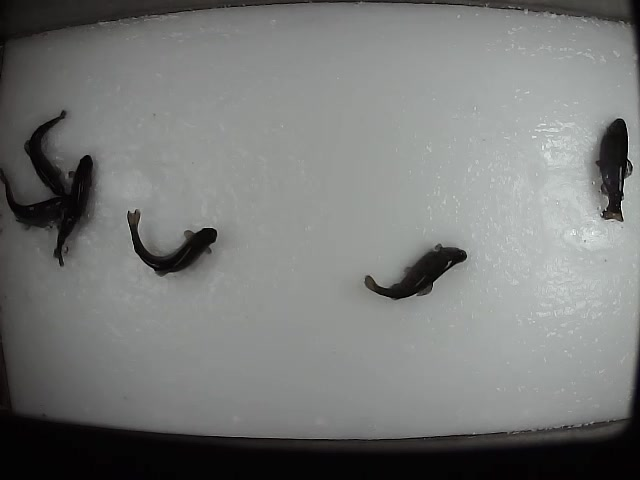Fish: (127, 208, 217, 277), (365, 243, 467, 300), (53, 155, 93, 266), (1, 169, 70, 228), (595, 118, 633, 221), (24, 110, 67, 196)
